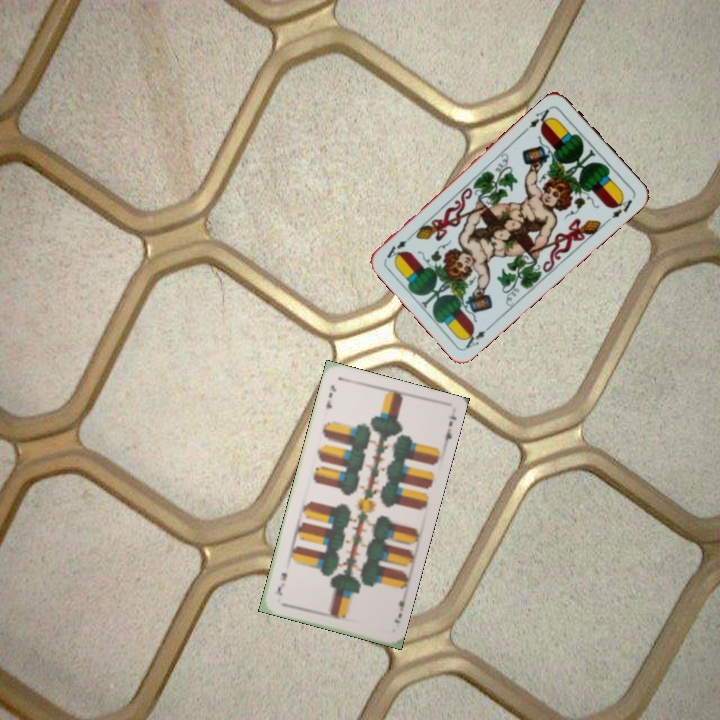E7: (390, 591, 409, 626), (322, 381, 339, 411)
EA: (459, 320, 495, 351), (525, 103, 555, 131)
